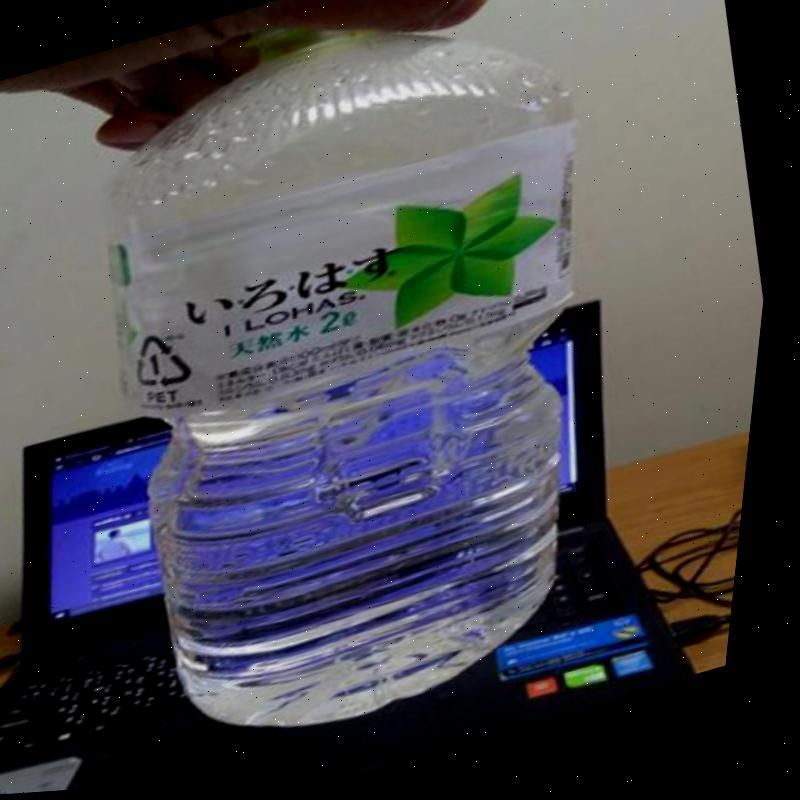botella: (28, 0, 707, 785)
